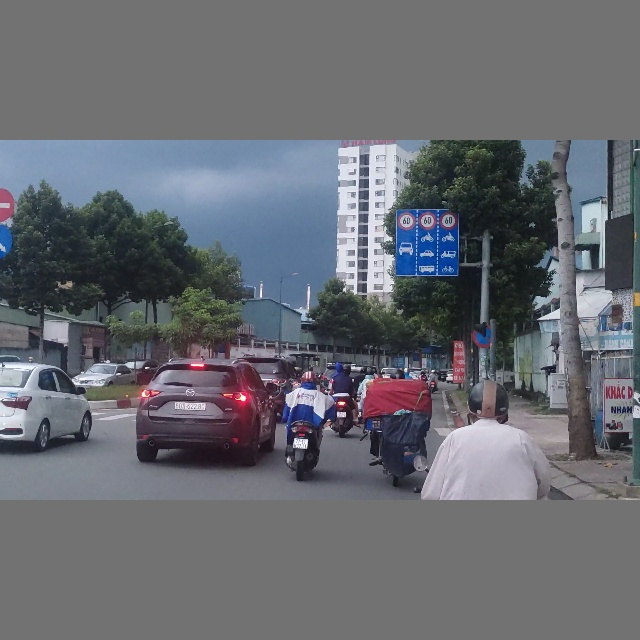P.127*60: (398, 212, 415, 230), (419, 212, 437, 229), (441, 211, 458, 229)
P.131a: (472, 324, 497, 347)
R.415a: (396, 231, 459, 276)
